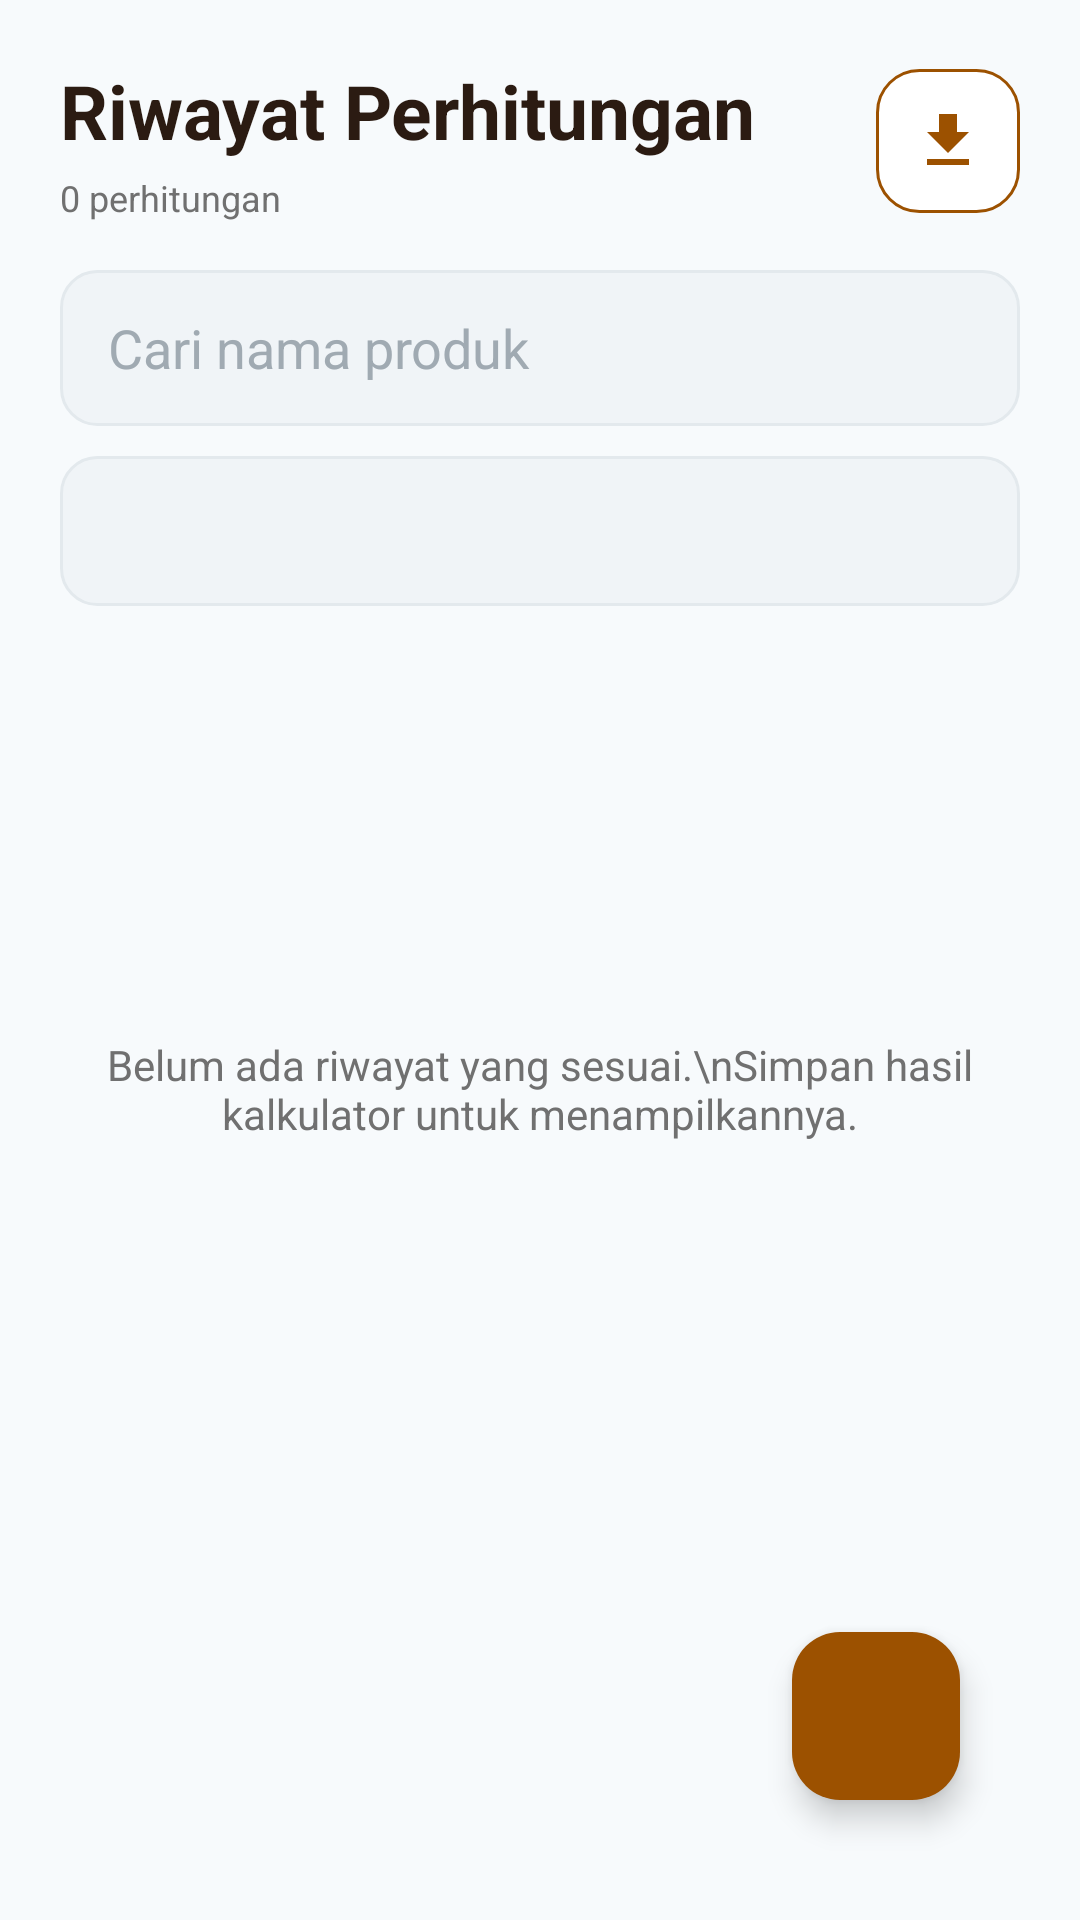

Locate icon controls on the screen. Image size 1080px×1920px, boxes as region(x1, y1, x2, y2).
Ekspor CSV: region(876, 69, 1020, 213)
